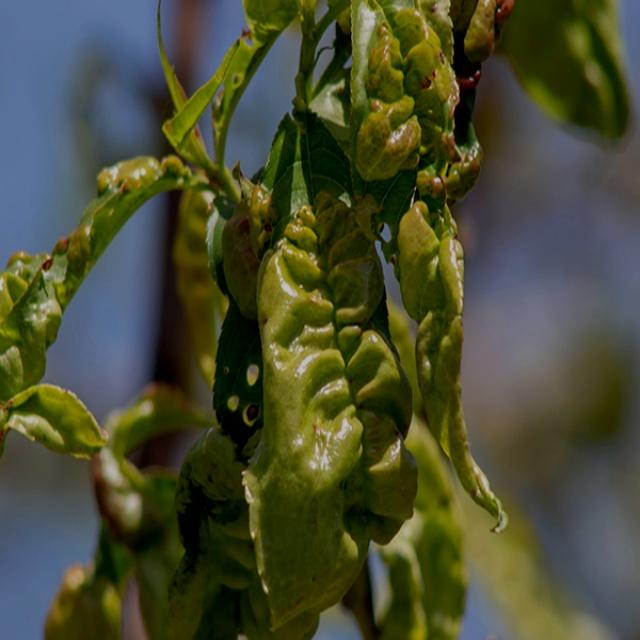leaf_curl: (257, 174, 428, 607), (376, 171, 529, 540), (6, 96, 201, 370), (314, 0, 516, 198), (233, 0, 322, 52)
